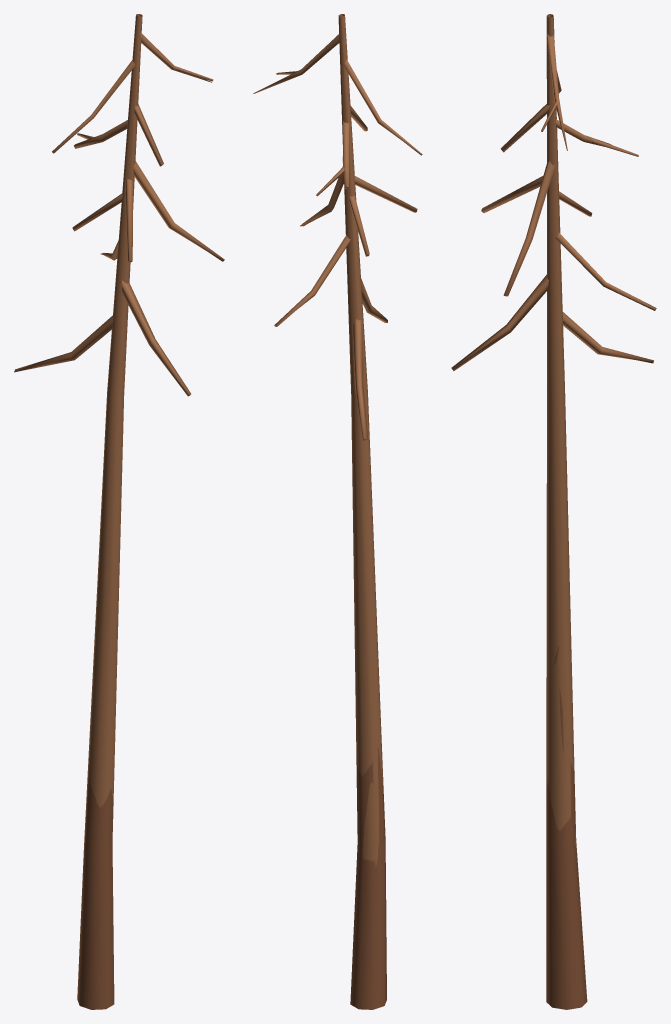
File: sm_dead_tree_1.fbx
The picture shows the model from 3 angles, left to right: view 1: azimuth 30°, elevation 25°; view 2: azimuth 150°, elevation 25°; view 3: azimuth 270°, elevation 25°; orthographic projection. The views are drawn at different scales.
Visible parts, largest first — view 1: sm_dead_tree_1_LOD00; view 2: sm_dead_tree_1_LOD00; view 3: sm_dead_tree_1_LOD00.
Boxes of the visible parts, bbox=[...] form: sm_dead_tree_1_LOD00: bbox=[14, 14, 224, 1009]; sm_dead_tree_1_LOD00: bbox=[253, 14, 422, 1009]; sm_dead_tree_1_LOD00: bbox=[451, 14, 656, 1009].
Size of what is drawn, in the model's own units: 1.88 by 10.64 by 1.97.
